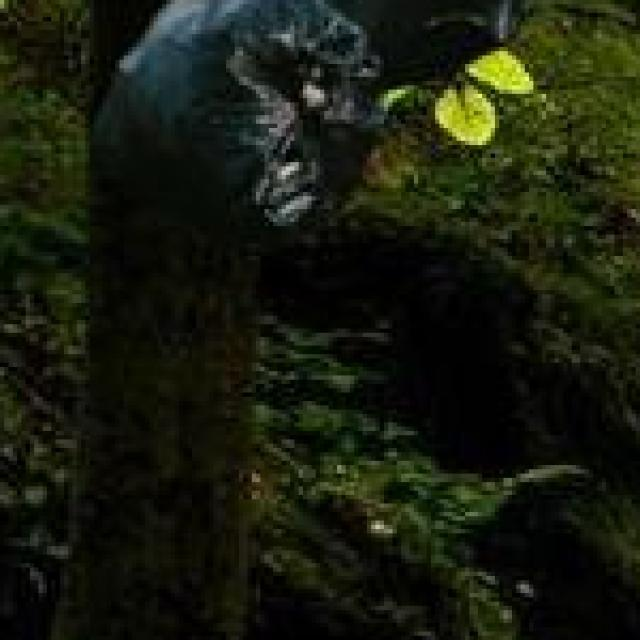Trashbag: (83, 1, 393, 238)
